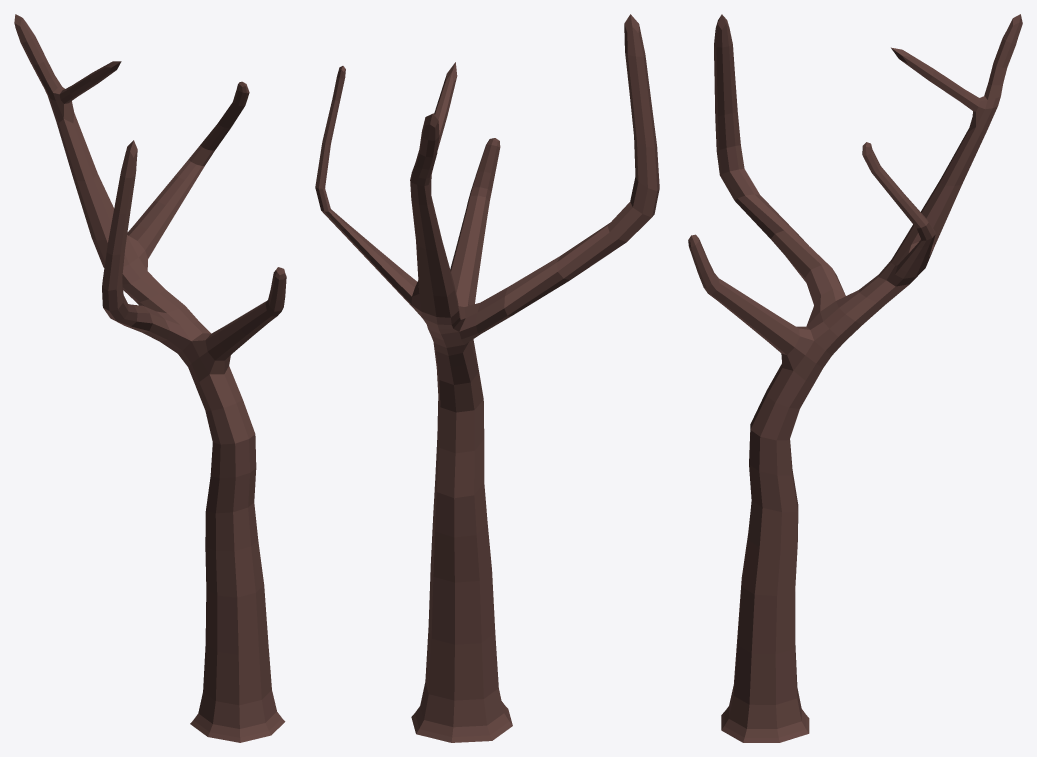
File: CommonTree_Dead_4.gltf
3 renders of one model, left to right at view 1: azimuth 30°, elevation 25°; view 2: azimuth 150°, elevation 25°; view 3: azimuth 270°, elevation 25°, orthographic. The views are drawn at different scales.
Visible parts, largest first — view 1: CommonTree_Dead_4; view 2: CommonTree_Dead_4; view 3: CommonTree_Dead_4.
Part boxes in pixels (bbox=[...]): CommonTree_Dead_4: bbox=[14, 14, 286, 742]; CommonTree_Dead_4: bbox=[315, 14, 659, 742]; CommonTree_Dead_4: bbox=[688, 14, 1022, 742].
Size of the model in its own units: 0.8161 by 2.37 by 1.08.
